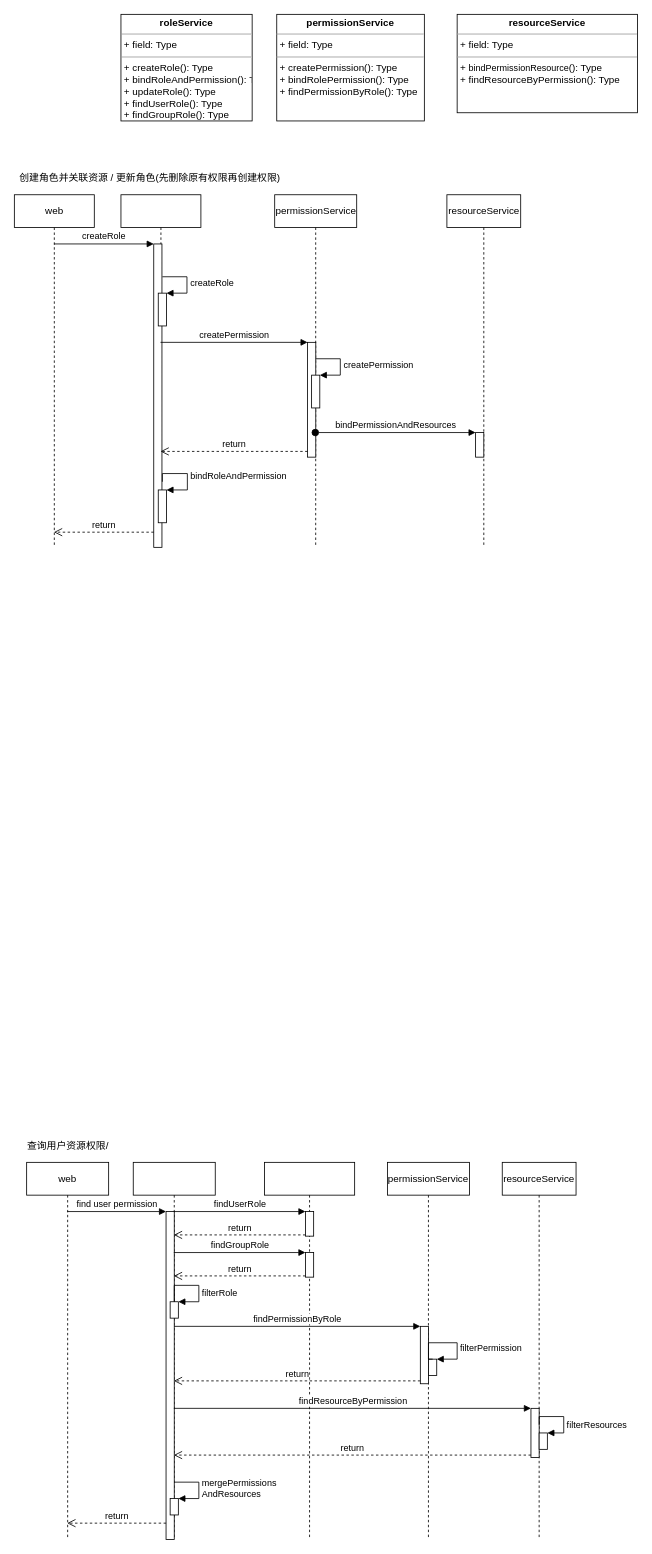
The diagram is 652 pixels wide and 1554 high, and some of its shapes have lost their labels. Here are the shapes that lost their labels. From the top down, the box of each, then its label:
(120, 194, 201, 547): role
(132, 1162, 215, 1540): user
(264, 1162, 355, 1540): roleService
